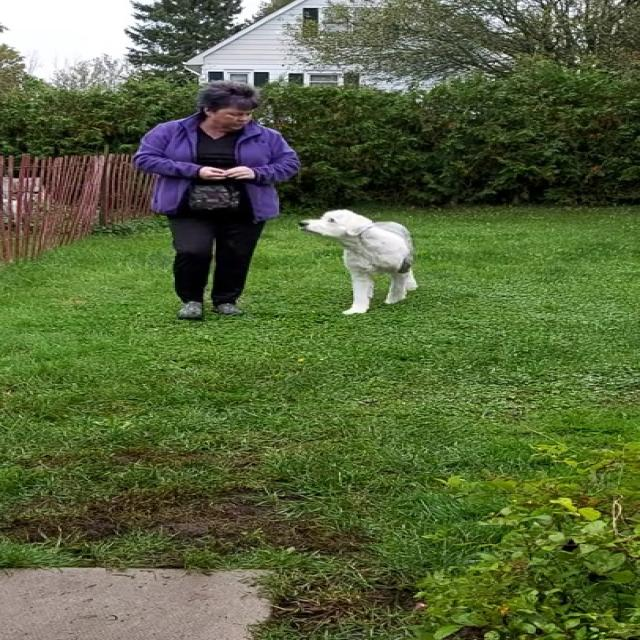Unleashed_Dog: (214, 209, 420, 314)
